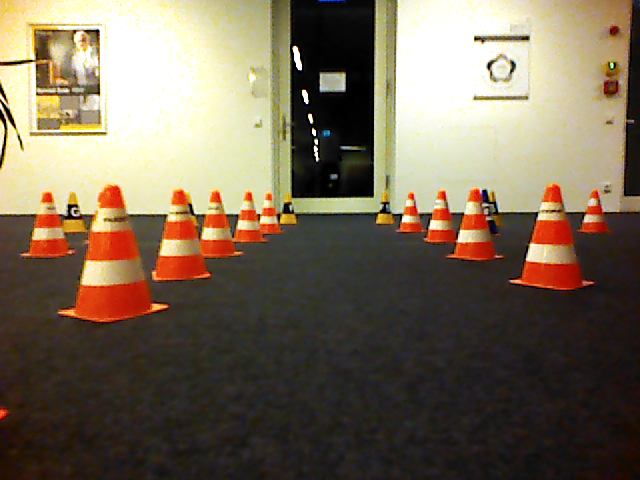orangeconesmall: (56, 184, 169, 325), (512, 183, 596, 293), (152, 188, 209, 283), (451, 188, 504, 263)
